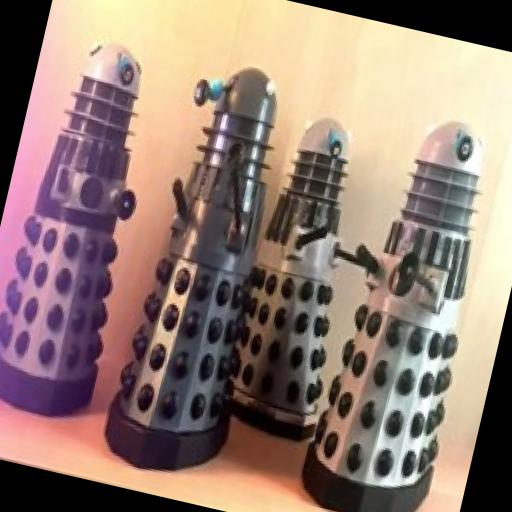dalek: (96, 47, 314, 484), (295, 104, 512, 512), (0, 28, 175, 425), (216, 104, 390, 446)
